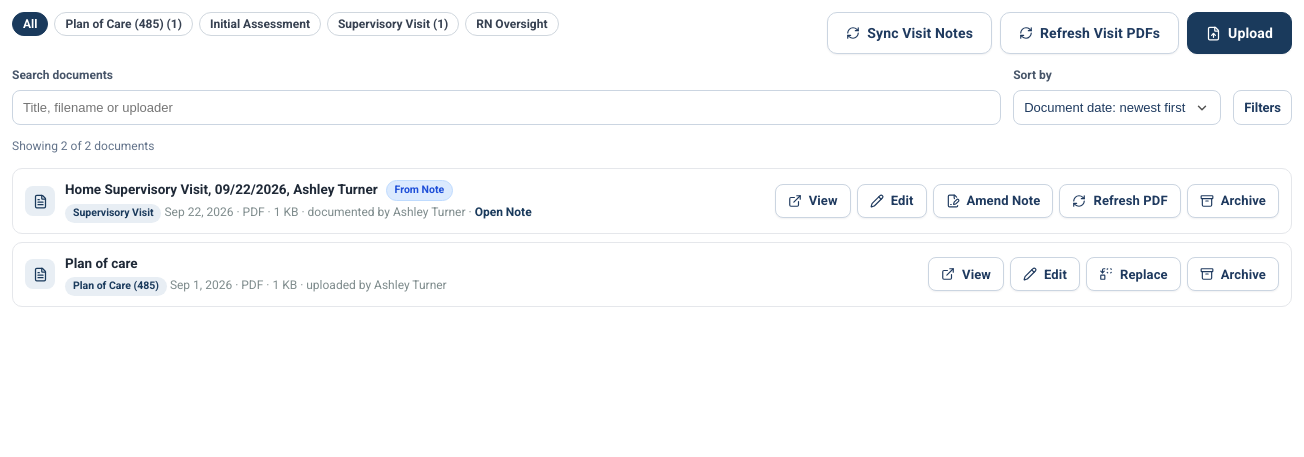
Test: Document filters and sorting › reports invalid date ranges and applies inclusive date boundaries
Click the button "Filters" at {"x": 1263, "y": 108}, box [1233,90,1292,125]
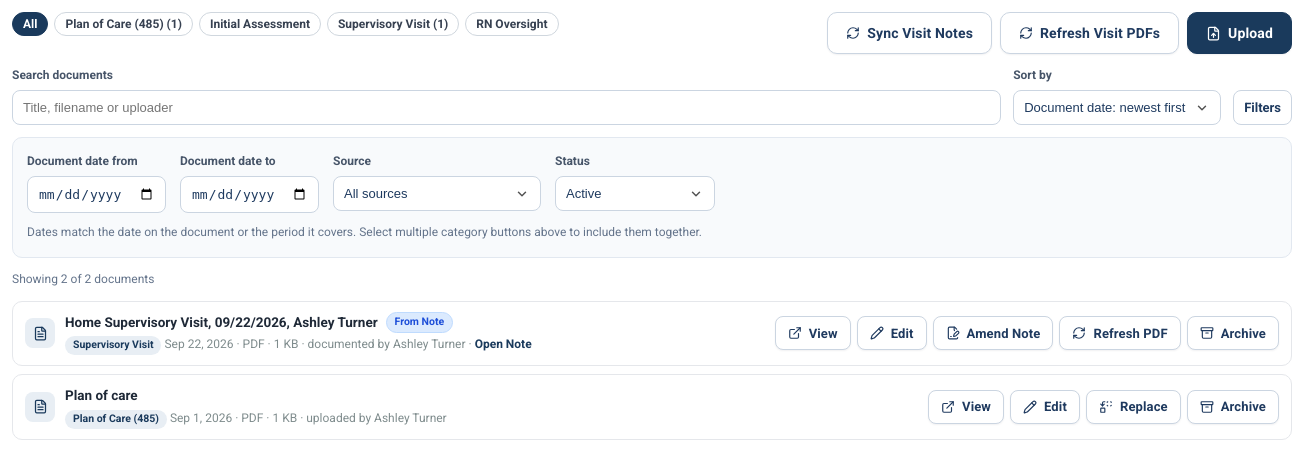
Type "2026-09-22" into the date field labelled "Document date from" at {"x": 96, "y": 195}, box [27,176,166,213]
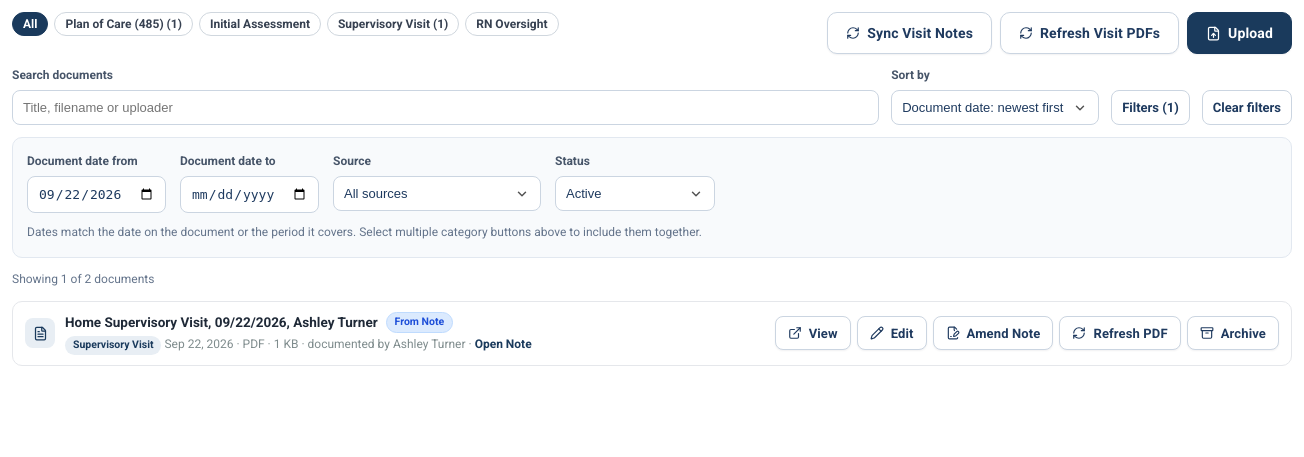
Type "2026-09-22" into the date field labelled "Document date to" at {"x": 250, "y": 195}, box [180,176,319,213]
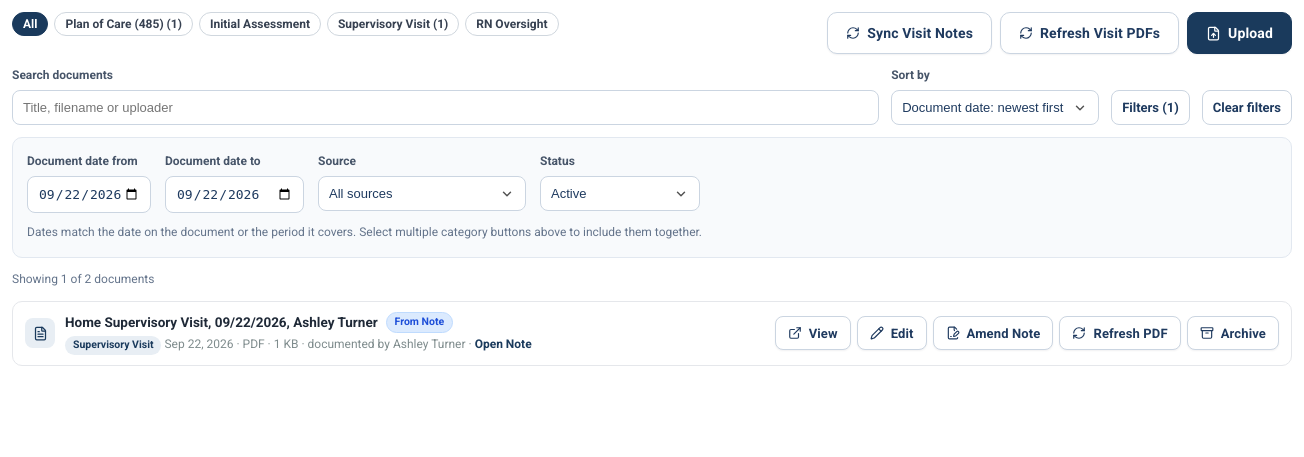
Check: the number of list items is 1, box [12,301,1292,366]
Type "2026-09-01" into the date field labelled "Document date to" at {"x": 234, "y": 195}, box [165,176,304,213]
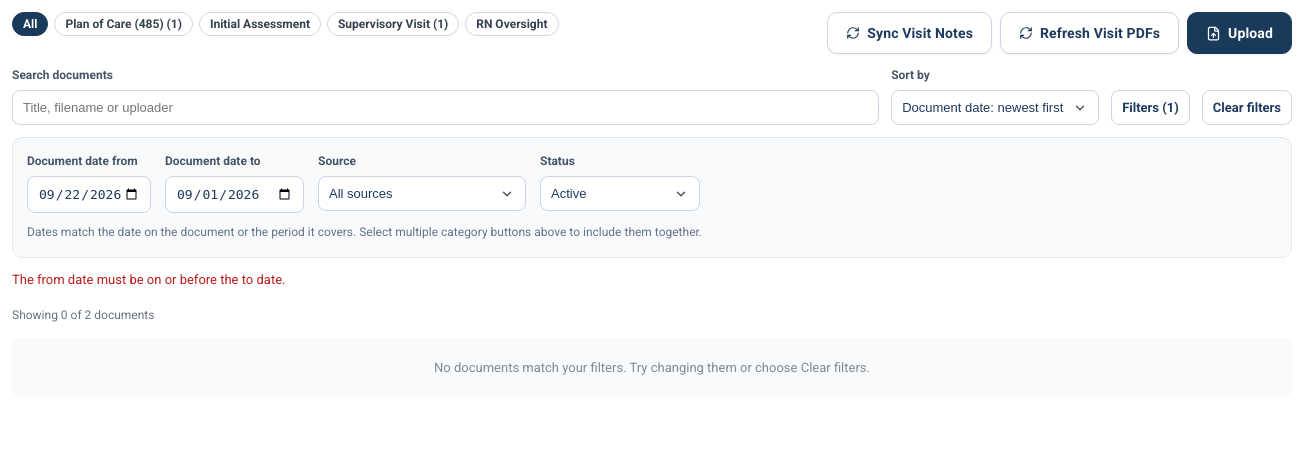
Check: the message "The from date must be on or before the to date." is shown, box [12,272,286,287]
